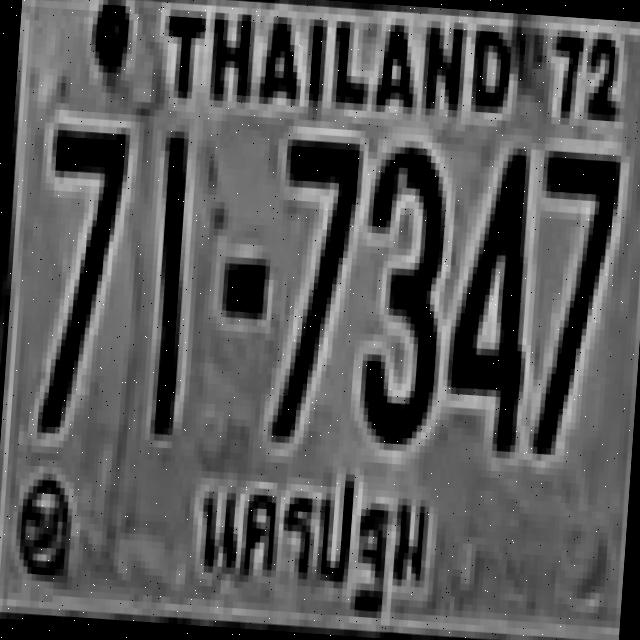1: (143, 124, 191, 428)
3: (352, 138, 446, 439)
4: (443, 138, 536, 444)
7: (264, 133, 358, 440), (32, 122, 126, 423), (526, 144, 618, 450), (40, 122, 126, 336)
NakhonPathom: (184, 458, 444, 626)
